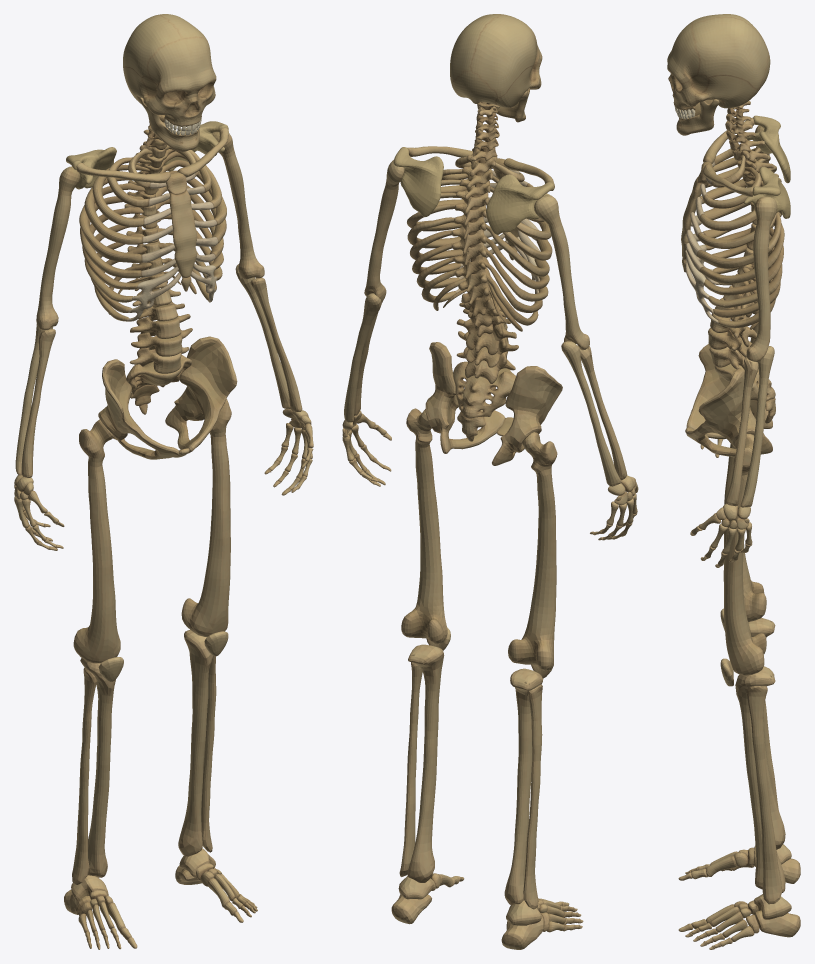
The model's file is esqueleto.obj.
3 views of the same model, side by side, from view 1: azimuth 30°, elevation 25°; view 2: azimuth 150°, elevation 25°; view 3: azimuth 270°, elevation 25° (orthographic).
Parts seen in each view (by area): view 1: Rehor-Ecorche-LP; view 2: Rehor-Ecorche-LP; view 3: Rehor-Ecorche-LP.
Part boxes in pixels (x1=…): Rehor-Ecorche-LP: x1=14, y1=14, x2=313, y2=949; Rehor-Ecorche-LP: x1=342, y1=14, x2=638, y2=949; Rehor-Ecorche-LP: x1=667, y1=14, x2=800, y2=949.
Size of the model in its own units: 2.26 by 6.67 by 0.905.
1 material, 1 textured.
